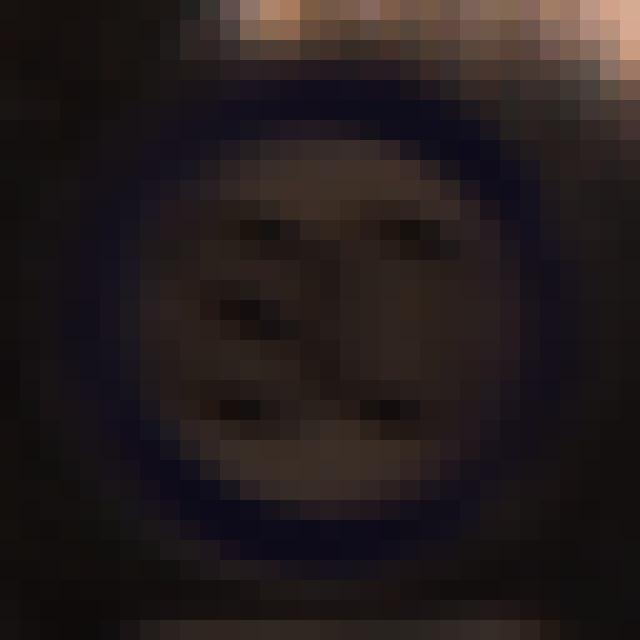SPEED-LIMIT-80: (85, 95, 542, 544)
